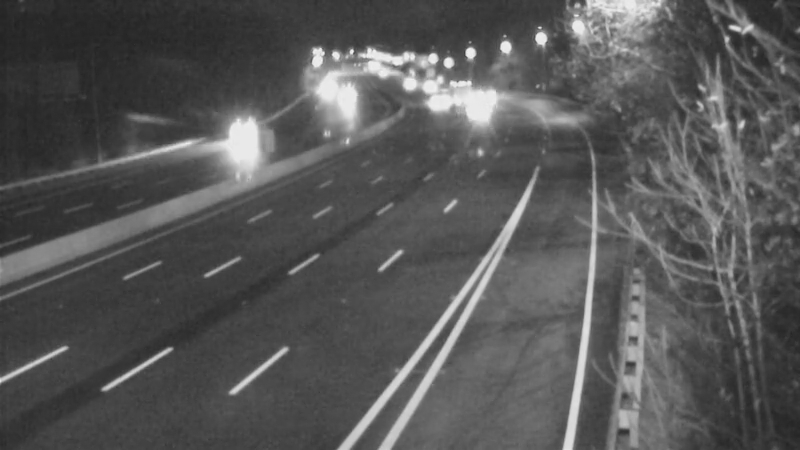vehicle: (380, 58, 430, 108), (403, 61, 453, 111), (430, 65, 480, 115), (463, 71, 513, 121), (416, 77, 466, 127), (450, 89, 500, 139), (210, 107, 260, 157), (324, 78, 374, 128)
